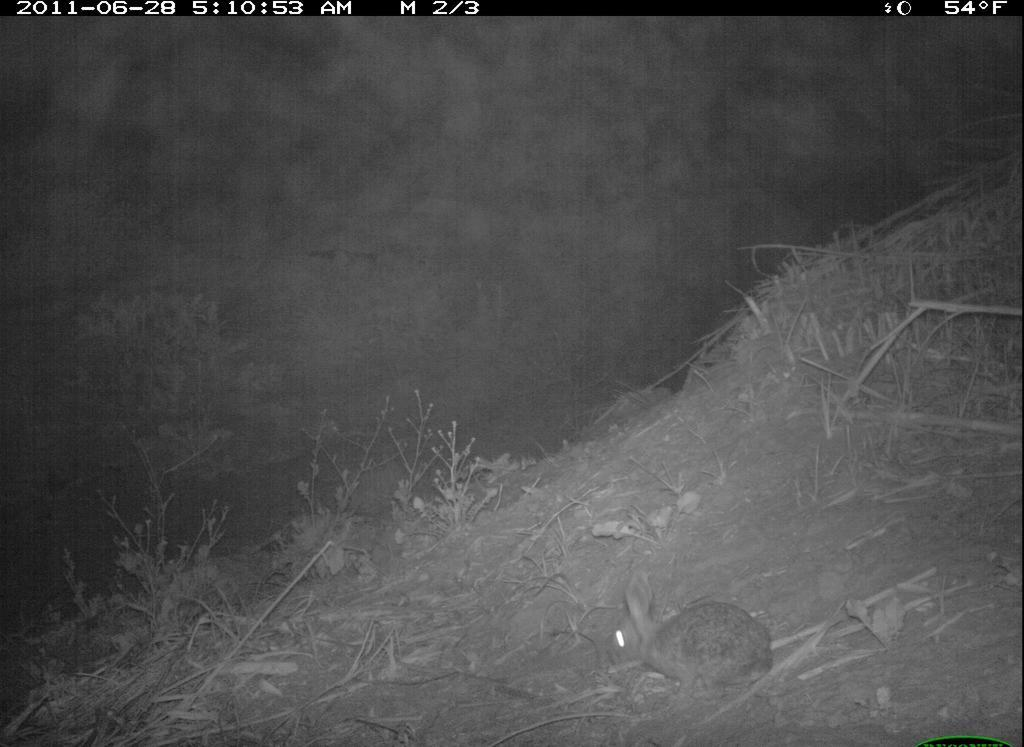rabbit: (607, 570, 780, 706)
